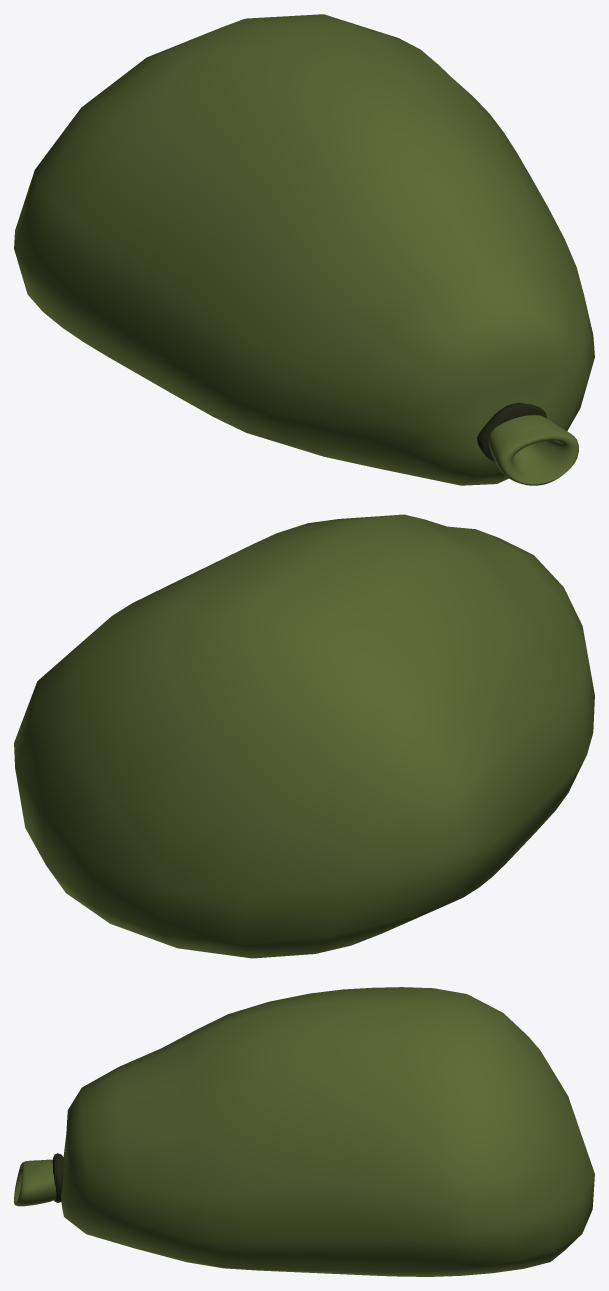
The model's file is BolsaV_02.fbx.
The picture shows the model from 3 angles, top to bottom: view 1: azimuth 30°, elevation 25°; view 2: azimuth 150°, elevation 25°; view 3: azimuth 270°, elevation 25°; orthographic projection. The views are drawn at different scales.
Parts seen in each view (by area): view 1: BolsaV_02; view 2: BolsaV_02; view 3: BolsaV_02.
Part boxes in pixels (box(x1,y1,x2,y2)): BolsaV_02: box(14, 14, 594, 485); BolsaV_02: box(14, 514, 594, 958); BolsaV_02: box(14, 987, 594, 1276).
Size of the model in its own units: 72.39 by 46.38 by 104.
